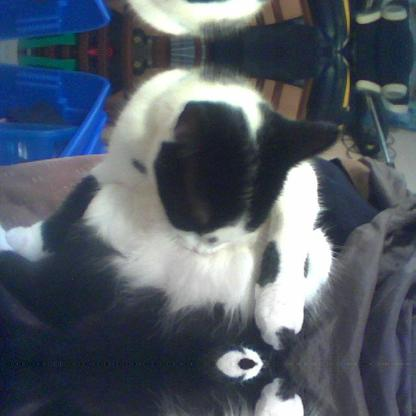Cat: (0, 63, 341, 363)
